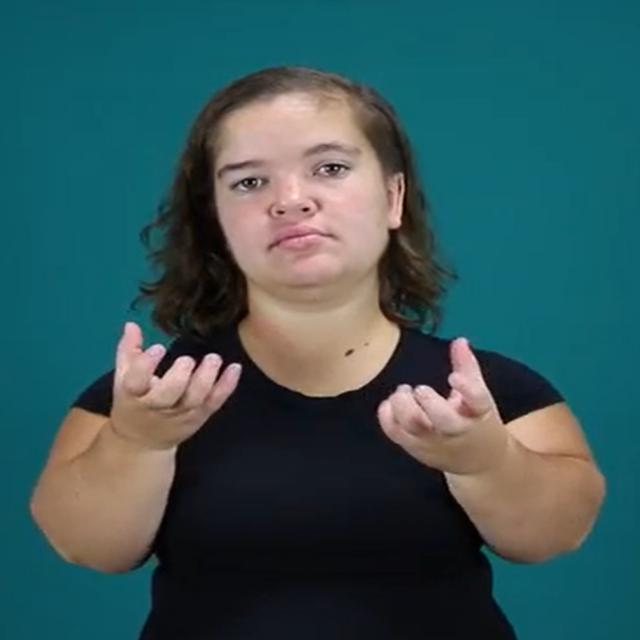want: (116, 322, 507, 470)
